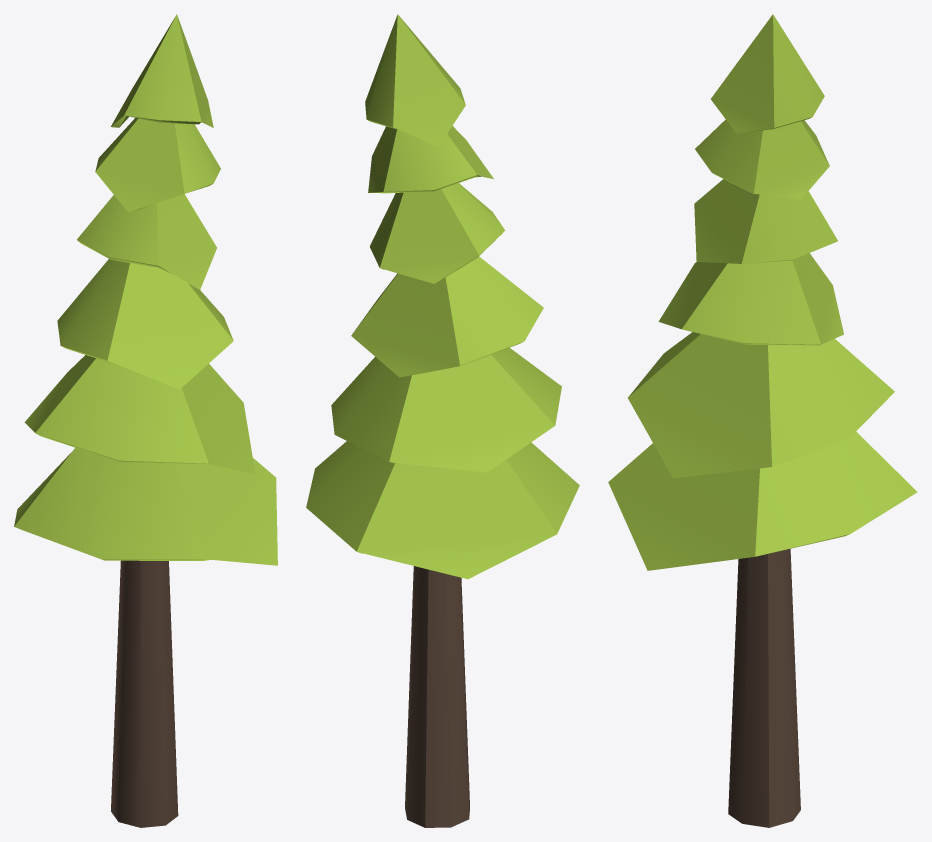
The picture shows the model from 3 angles, left to right: view 1: azimuth 30°, elevation 25°; view 2: azimuth 150°, elevation 25°; view 3: azimuth 270°, elevation 25°; orthographic projection. The views are drawn at different scales.
Visible parts, largest first — view 1: default8_Material_0; view 2: default8_Material_0; view 3: default8_Material_0.
Part boxes in pixels (<box>): default8_Material_0: <box>14,14,277,827</box>; default8_Material_0: <box>306,14,579,827</box>; default8_Material_0: <box>608,14,917,827</box>.
Size of the model in its own units: 0.0325 by 0.0976 by 0.0335.
Materials: 1 (1 with a texture image).
